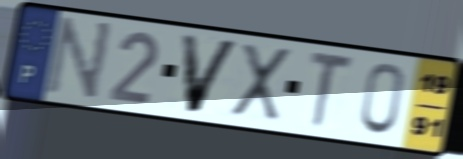0: (359, 61, 407, 137)
2: (105, 29, 161, 107)
N: (41, 15, 116, 105)
T: (307, 48, 357, 132)
V: (178, 31, 244, 116)
X: (229, 41, 294, 124)
